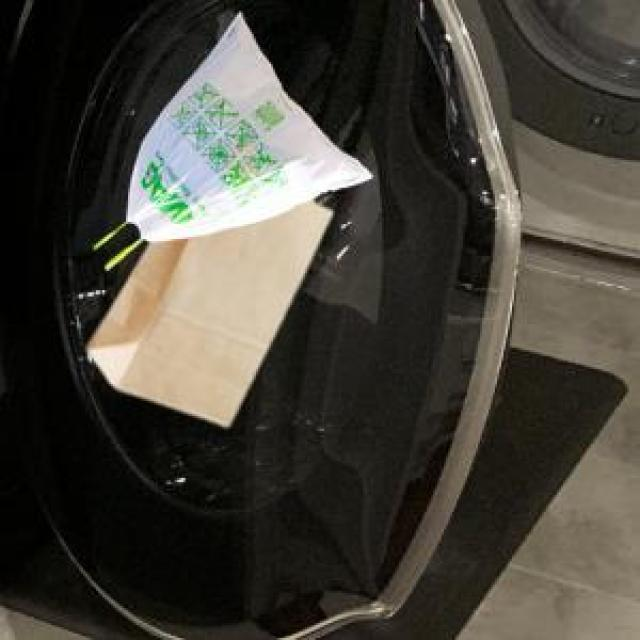paper: (83, 196, 329, 422)
